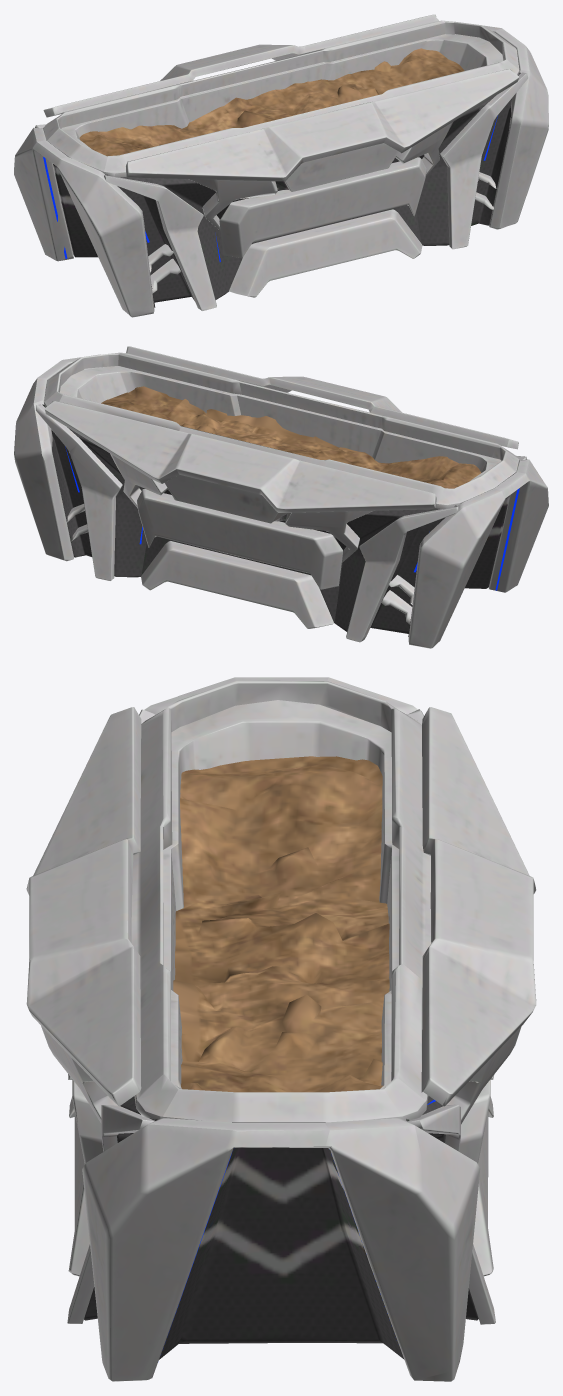
The model's file is TekTrough_C.glb.
3 views of the same model, one above another, from view 1: azimuth 30°, elevation 25°; view 2: azimuth 150°, elevation 25°; view 3: azimuth 270°, elevation 25° (orthographic). The views are drawn at different scales.
Visible parts, largest first — view 1: Tek_Trough; view 2: Tek_Trough; view 3: Tek_Trough.
Boxes of the visible parts, x1,y1,x2,y2 form: Tek_Trough: [14, 14, 548, 317]; Tek_Trough: [14, 346, 548, 648]; Tek_Trough: [26, 677, 536, 1381].
Bounding box in the file's own units: 2.67 × 0.8352 × 1.25.
2 materials, 2 textured.
